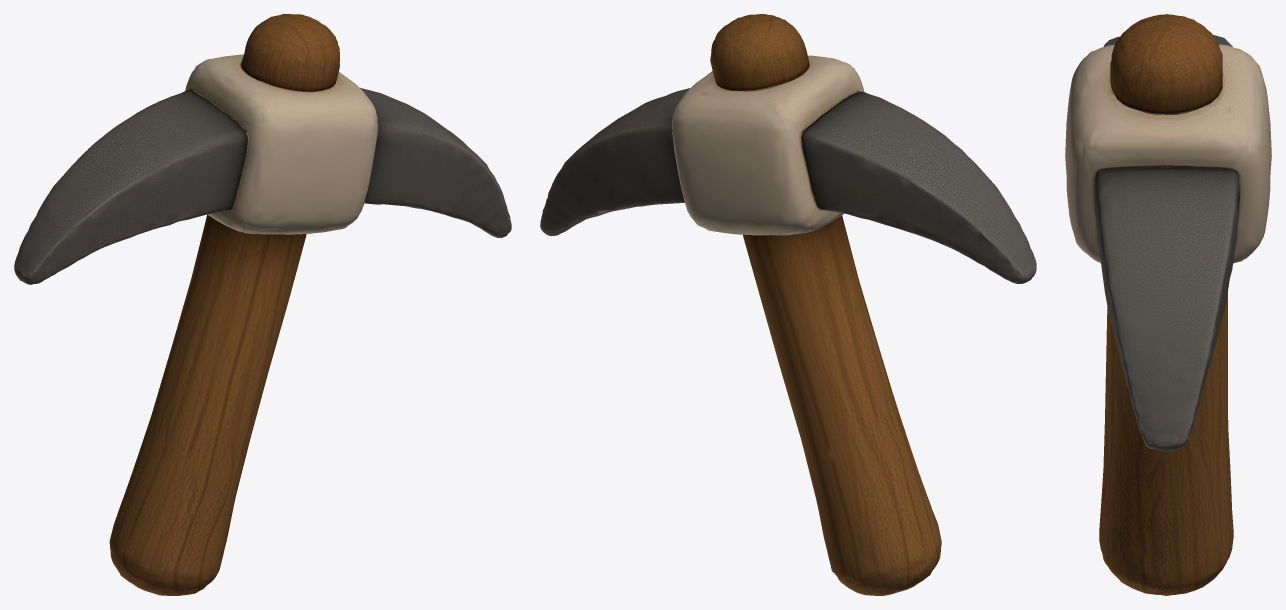
Rendered from pickaxe_mem.fbx.
3 renders of one model, left to right at view 1: azimuth 30°, elevation 25°; view 2: azimuth 150°, elevation 25°; view 3: azimuth 270°, elevation 25°, orthographic. The views are drawn at different scales.
Parts seen in each view (by area): view 1: tripo_node_63df3ae8; view 2: tripo_node_63df3ae8; view 3: tripo_node_63df3ae8.
Boxes of the visible parts, x1=… form: tripo_node_63df3ae8: x1=14, y1=14, x2=511, y2=595; tripo_node_63df3ae8: x1=540, y1=14, x2=1036, y2=595; tripo_node_63df3ae8: x1=1065, y1=14, x2=1271, y2=595.
Bounding box in the file's own units: 0.9434 × 0.998 × 0.2949.
